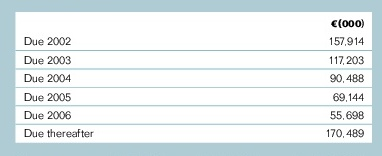table: (0, 0, 382, 156)
